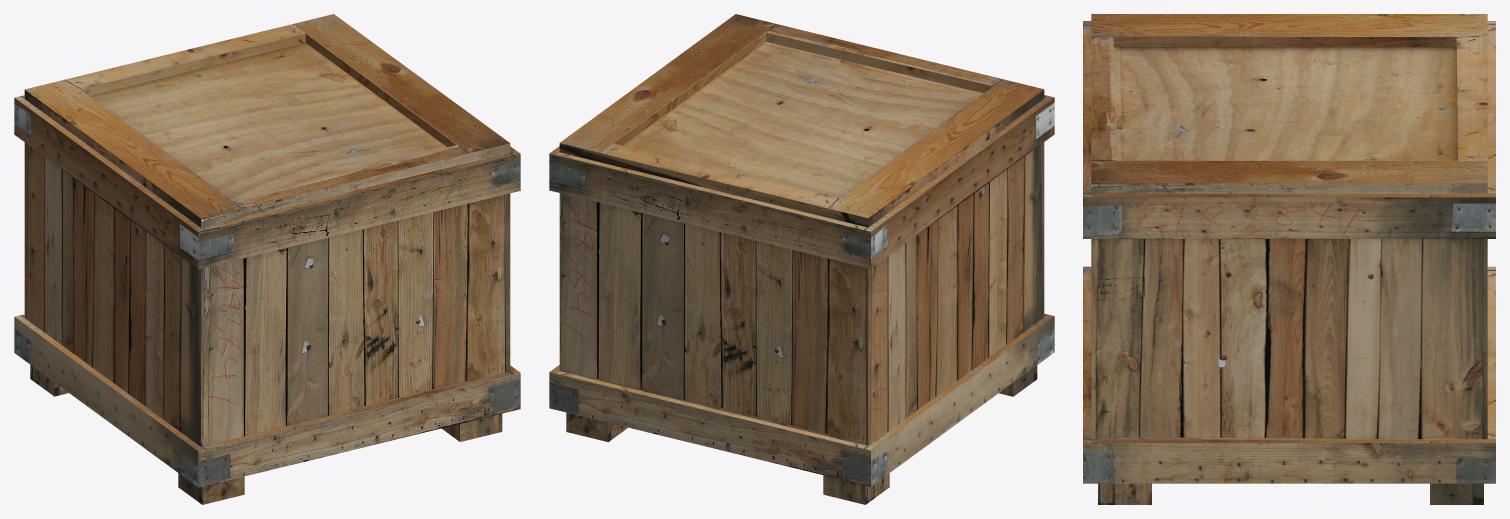
File: wood_crate.FBX
3 views of the same model, side by side, from view 1: azimuth 30°, elevation 25°; view 2: azimuth 150°, elevation 25°; view 3: azimuth 270°, elevation 25° (orthographic). The views are drawn at different scales.
Parts seen in each view (by area): view 1: Box01; view 2: Box01; view 3: Box01.
Boxes of the visible parts, x1,y1,x2,y2 form: Box01: (14, 14, 520, 504); Box01: (549, 14, 1054, 504); Box01: (1083, 14, 1495, 504).
Bounding box in the file's own units: 92.82 × 91.84 × 79.7.
1 material, 1 textured.
